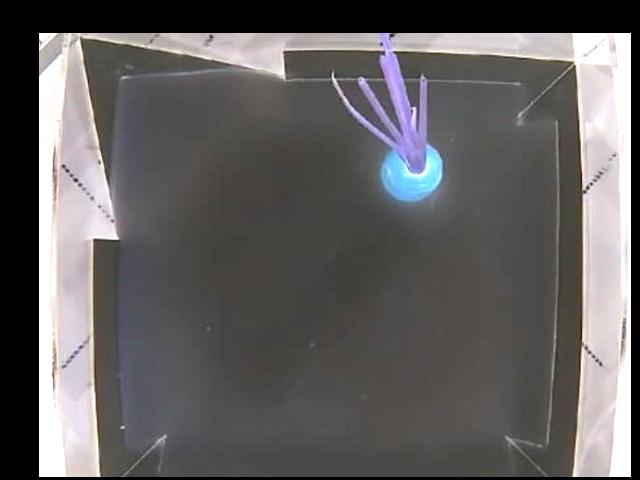Carrot: (362, 107, 444, 200)
